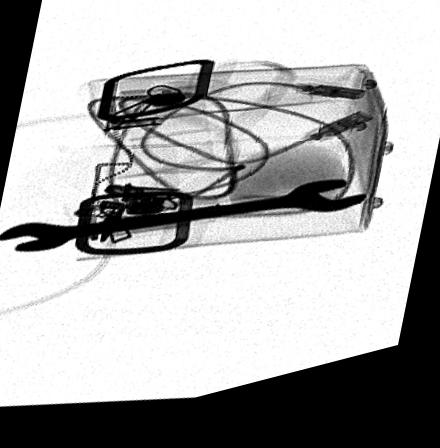Wrench: (0, 194, 365, 252)
